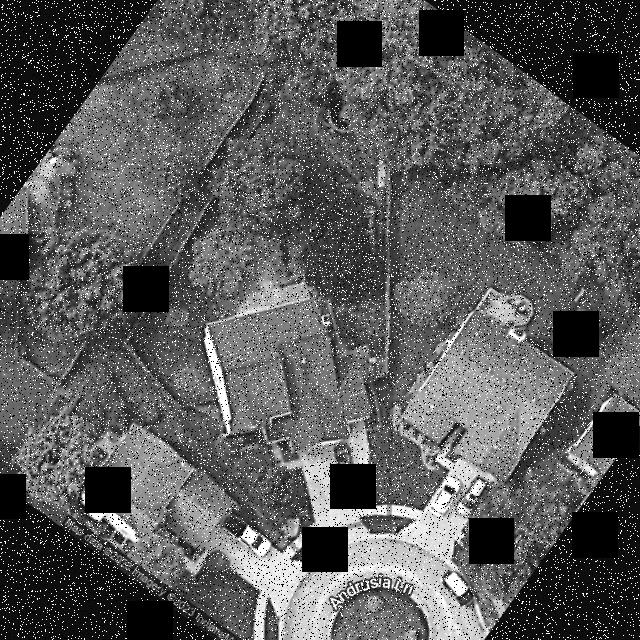Driveway: (286, 420, 368, 535)
Extra Driveway: (317, 525, 371, 558)
Extra Lawn: (367, 523, 391, 533), (301, 546, 315, 563)
House: (203, 298, 371, 465)
Other: (235, 247, 310, 313), (337, 344, 387, 383), (362, 204, 377, 250), (376, 161, 385, 188)
